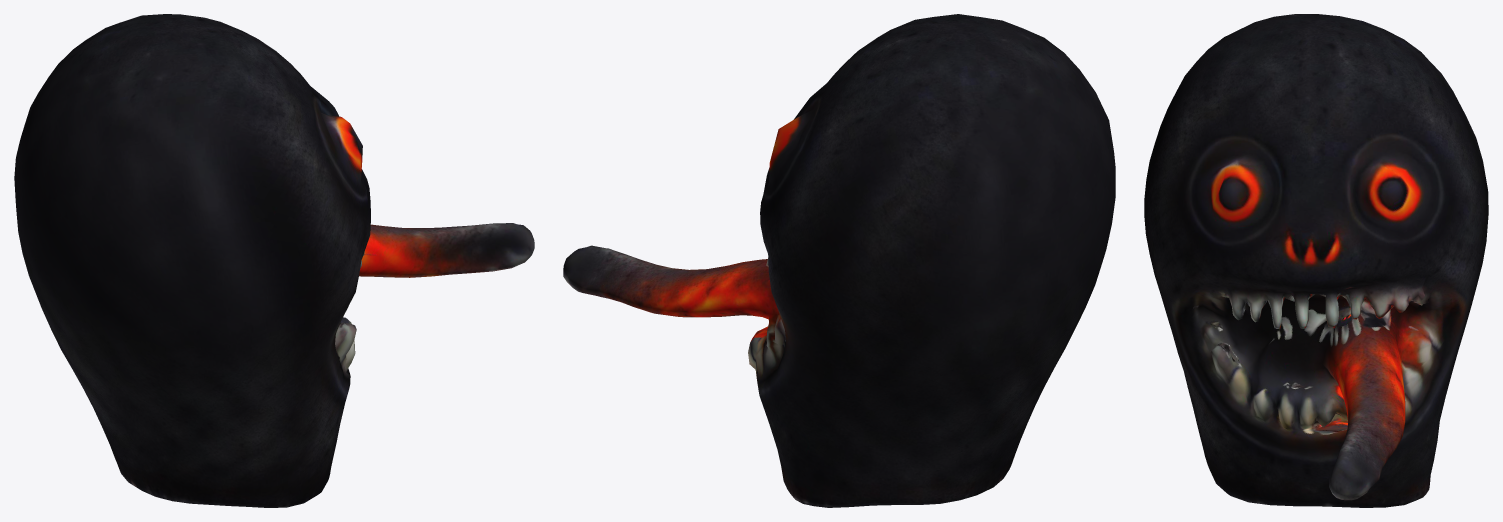
Rendered from 6f6b42fc1090_15362a415eed_Dark_face_smoke_hor.glb.
3 views of the same model, side by side, from view 1: azimuth 30°, elevation 25°; view 2: azimuth 150°, elevation 25°; view 3: azimuth 270°, elevation 25° (orthographic). The views are drawn at different scales.
Parts seen in each view (by area): view 1: mesh; view 2: mesh; view 3: mesh.
Boxes of the visible parts, left/top/right/bottom form: mesh: left=14, top=14, right=534, bottom=507; mesh: left=563, top=14, right=1115, bottom=507; mesh: left=1144, top=14, right=1488, bottom=507.
Bounding box in the file's own units: 0.9987 × 0.8605 × 0.6256.
Materials: 1 (1 with a texture image).
